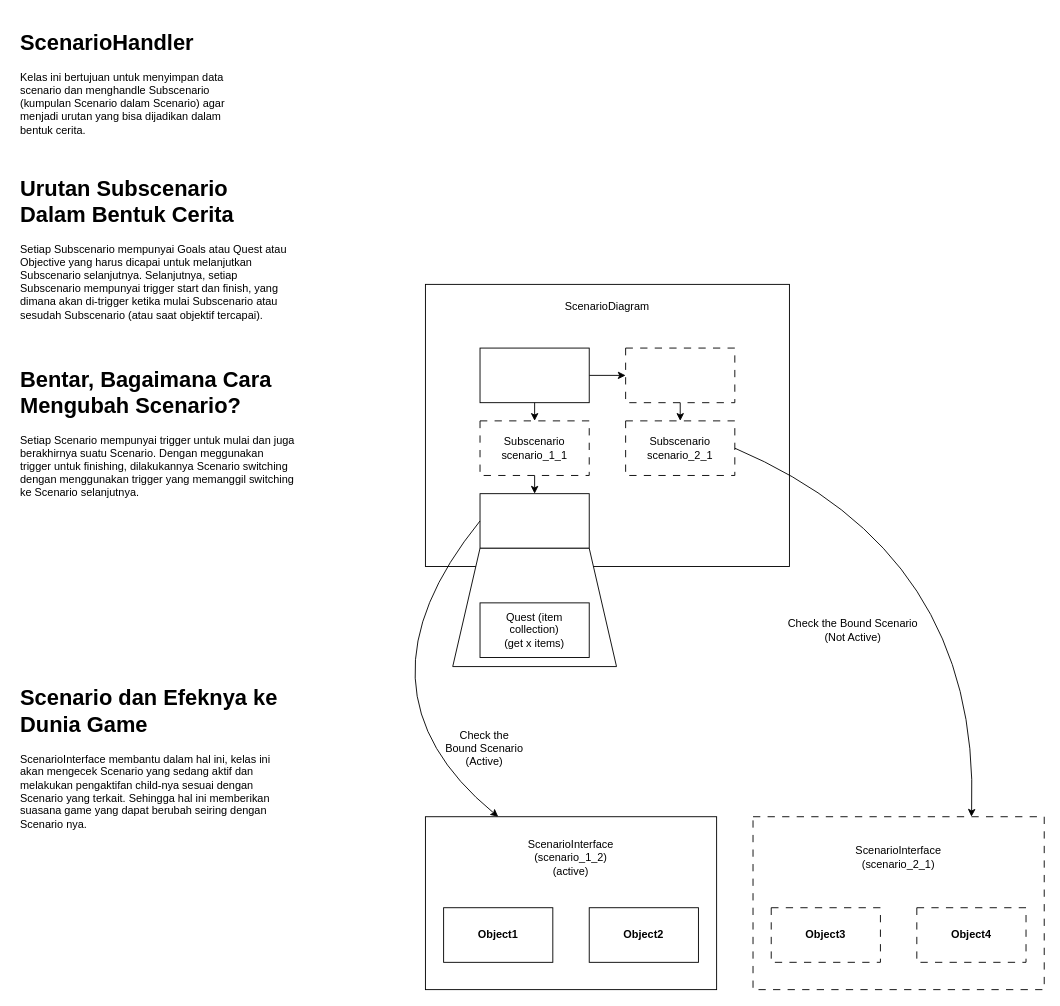
Some shapes in this 1060 by 1006 pixel diagram are drawn without their labels. The box of each missing label's shape, as (x1, y1, x2, y2) in pixels:
ScenarioHandler (scenario_1) (currently active): (479, 347, 589, 403)
ScenarioHandler (scenario_2): (625, 347, 735, 403)
Subscenario scenario_1_2 (currently active): (479, 493, 589, 548)
